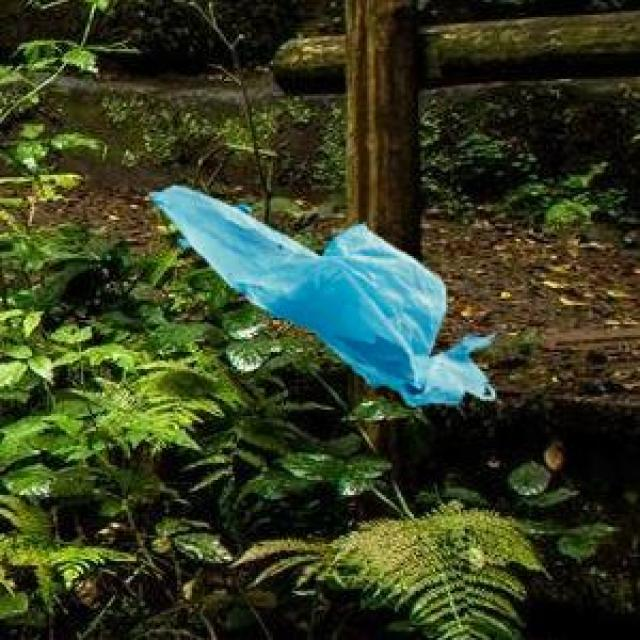plastic: (132, 156, 516, 433)
